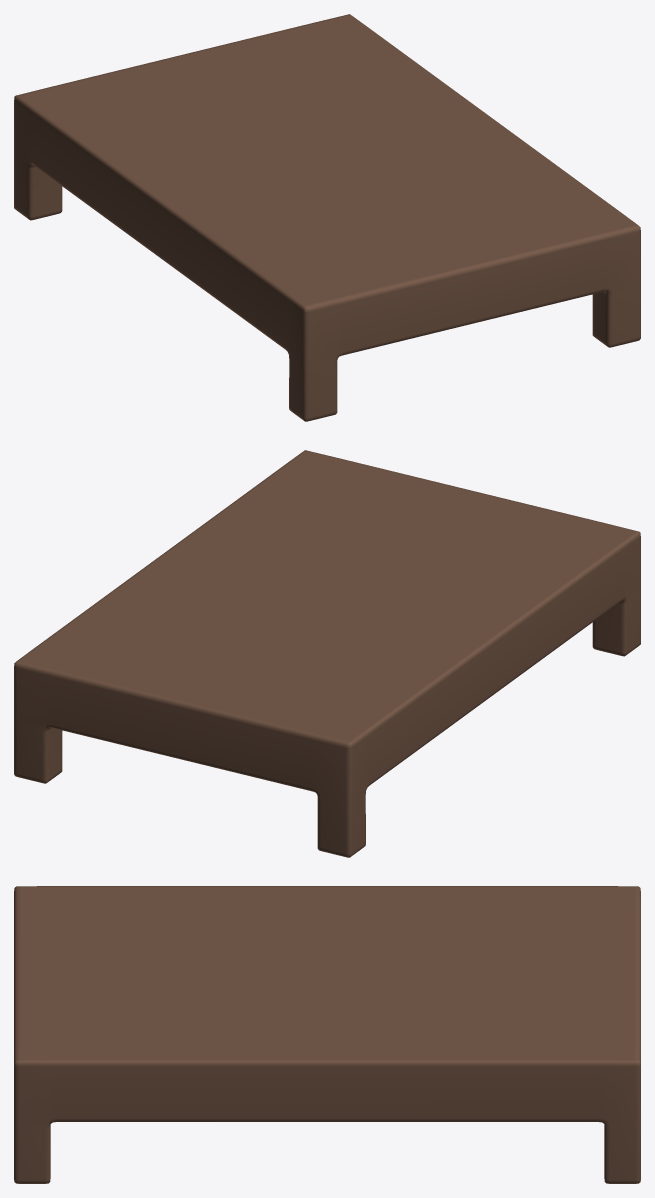
File: BedFrame.glb
The picture shows the model from 3 angles, top to bottom: view 1: azimuth 30°, elevation 25°; view 2: azimuth 150°, elevation 25°; view 3: azimuth 270°, elevation 25°; orthographic projection. The views are drawn at different scales.
Parts seen in each view (by area): view 1: Bed Frame; view 2: Bed Frame; view 3: Bed Frame.
Boxes of the visible parts, x1,y1,x2,y2 form: Bed Frame: (14,14,640,421); Bed Frame: (14,450,640,857); Bed Frame: (14,886,640,1183).
Size of the model in its own units: 1.54 by 0.5 by 2.31.
